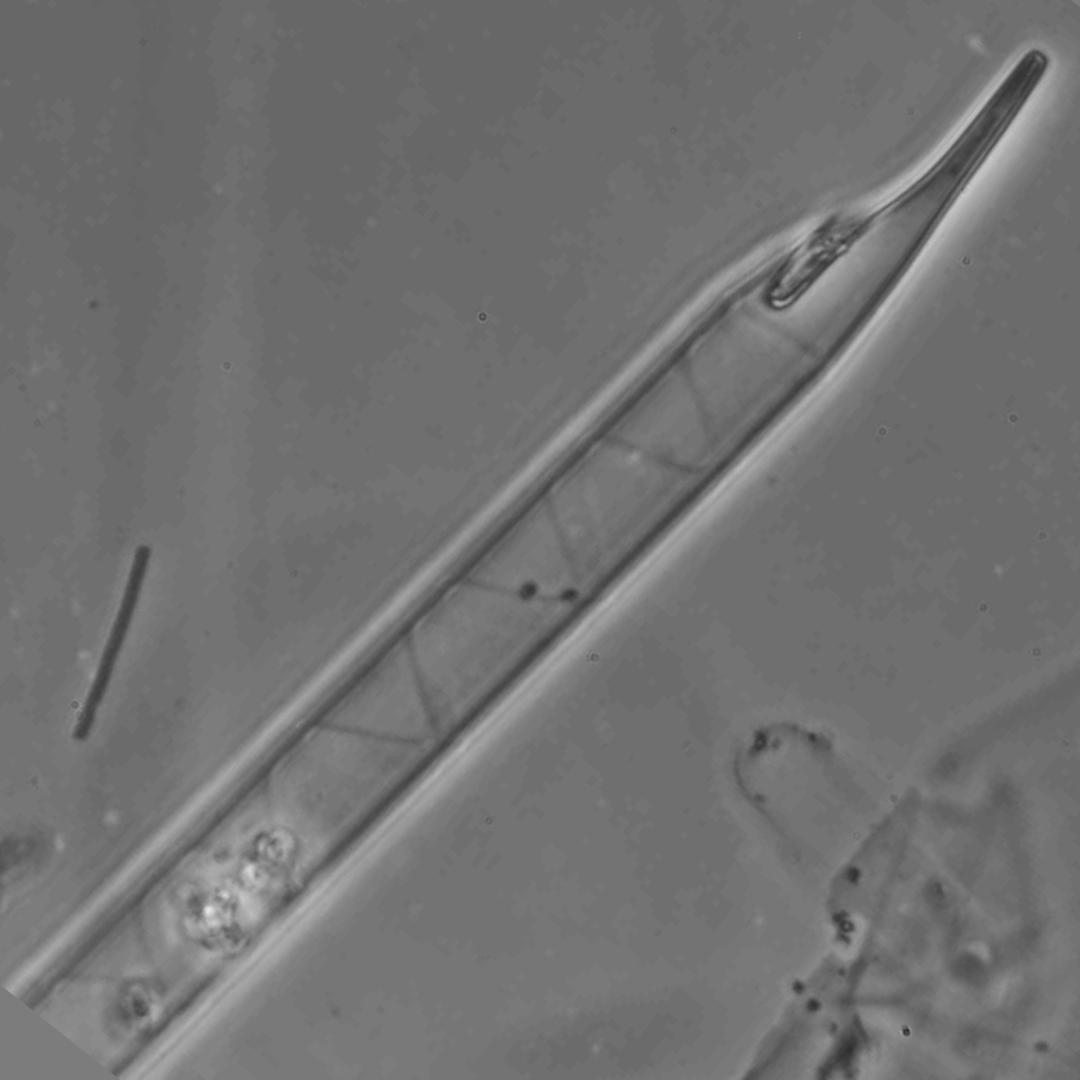proboscia_alata: (28, 50, 1048, 1078)
